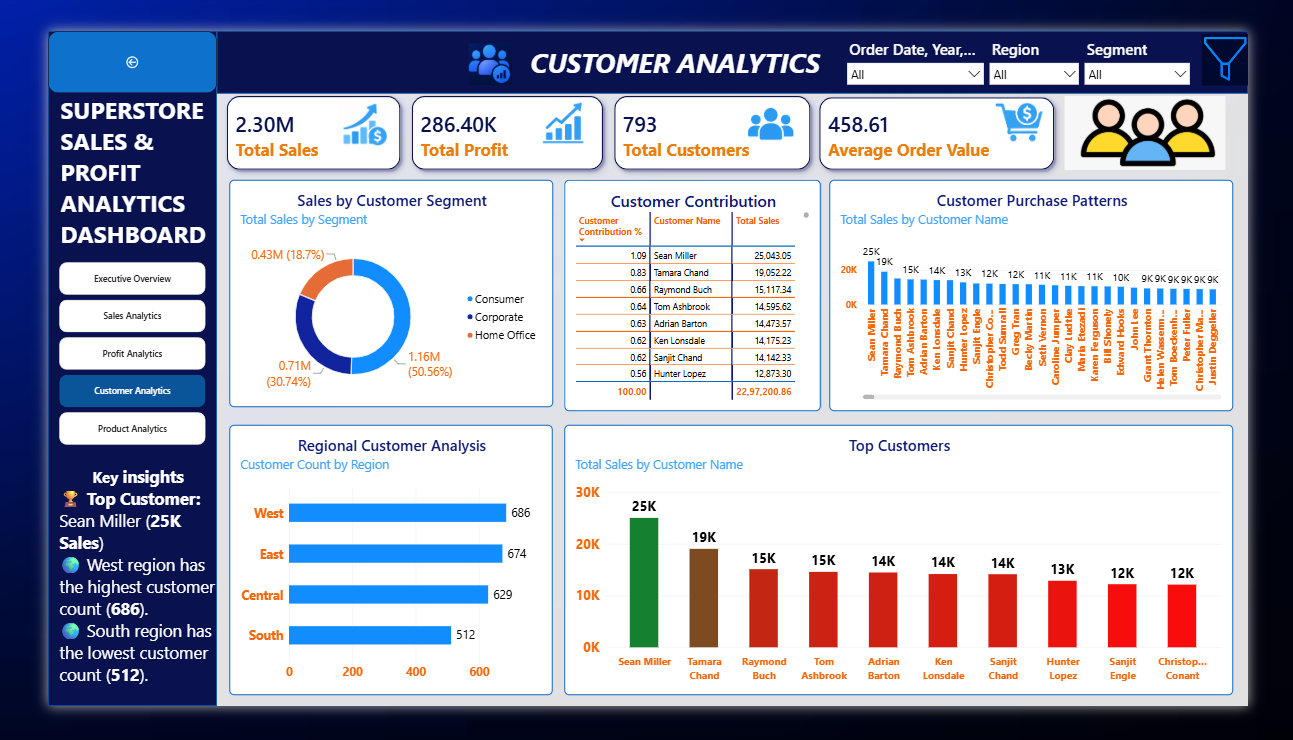

Layout of this report page (visuals, bound fields, positions):
{"tool":"powerbi","page":{"name":"Customer Analytics","canvas":[1920,1080],"ordinal":3},"visuals":[{"type":"shape","box":[0,0,270,1080],"z":0},{"type":"textbox","box":[20,100,250,286],"z":1000},{"type":"pageNavigator","box":[18,370,234,292],"z":2000},{"type":"shape","box":[270,0,1650,100],"z":3000},{"type":"textbox","box":[732.5,20,542.5,80],"z":4000},{"type":"slicer","fields":{"Values":["Data.Order Date.Variation.Date Hierarchy.Year","Data.Order Date.Variation.Date Hierarchy.Year1","Data.Order Date.Variation.Date Hierarchy.Quarter","Data.Order Date.Variation.Date Hierarchy.Month","Data.Order Date.Variation.Date Hierarchy.Day"]},"box":[1274,12,228,84],"z":5000},{"type":"slicer","fields":{"Values":["Data.Region"]},"box":[1502.5,12.5,152.5,87.5],"z":6000},{"type":"slicer","fields":{"Values":["Data.Segment"]},"box":[1654,12,178,84],"z":7000},{"type":"columnChart","title":"Top Customers","fields":{"Category":["Data.Customer Name"],"Y":["Data.Total Sales"]},"box":[825,630,1070,432.5],"z":8000},{"type":"donutChart","title":"Sales by Customer Segment","fields":{"Series":["Data.Segment"],"Y":["Data.Total Sales"]},"box":[290,238,518,364],"z":9000},{"type":"cardVisual","fields":{"Data":["Data.Total Sales"]},"box":[270,88,310,150],"z":10000},{"type":"cardVisual","fields":{"Data":["Data.Total Profit"]},"box":[566,88,338,150],"z":11000},{"type":"cardVisual","fields":{"Data":["Data.Total Customers"]},"box":[890,88,346,150],"z":12000},{"type":"cardVisual","fields":{"Data":["Data.Average Order Value"]},"box":[1218,90,408,148],"z":13000},{"type":"barChart","title":"Regional Customer Analysis","fields":{"Category":["Data.Region"],"Y":["Data.Customer Count"]},"box":[290,630,517.5,432.5],"z":14000},{"type":"clusteredColumnChart","title":"Customer Purchase Patterns","fields":{"Category":["Data.Customer Name"],"Y":["Data.Total Sales"]},"box":[1250,238,646,370],"z":15000},{"type":"tableEx","title":"Customer Contribution","fields":{"Values":["Data.Customer Contribution %","Data.Customer Name","Data.Total Sales"]},"box":[826,238,410,370],"z":16000},{"type":"actionButton","box":[0,0,270,100],"z":17000},{"type":"image","box":[460,116,88,68],"z":18000},{"type":"image","box":[788,112,76,72],"z":19000},{"type":"image","box":[1120,112,74,72],"z":20000},{"type":"image","box":[1502,112,106,66],"z":21000},{"type":"image","box":[658,20,100,66],"z":22000},{"type":"image","box":[1608,104,294,118],"z":23000},{"type":"image","box":[1846,0,74,92],"z":24000},{"type":"textbox","box":[18,694,252,386],"z":25000}]}

Visuals, with their boxes in screenshot pixels (x1, y1, x2, y2), scaled from the page's 1920x1080 canvas onto the 1293x740 screenshot:
shape: x1=0, y1=0, x2=182, y2=739
textbox: x1=13, y1=69, x2=182, y2=264
pageNavigator: x1=12, y1=254, x2=170, y2=454
shape: x1=182, y1=0, x2=1292, y2=69
textbox: x1=493, y1=14, x2=859, y2=69
slicer - Data.Order Date.Variation.Date Hierarchy.Year x Data.Order Date.Variation.Date Hierarchy.Year1: x1=858, y1=8, x2=1012, y2=66
slicer - Data.Region: x1=1012, y1=9, x2=1115, y2=69
slicer - Data.Segment: x1=1114, y1=8, x2=1234, y2=66
"Top Customers" columnChart: x1=556, y1=432, x2=1276, y2=728
"Sales by Customer Segment" donutChart: x1=195, y1=163, x2=544, y2=412
cardVisual - Data.Total Sales: x1=182, y1=60, x2=391, y2=163
cardVisual - Data.Total Profit: x1=381, y1=60, x2=609, y2=163
cardVisual - Data.Total Customers: x1=599, y1=60, x2=832, y2=163
cardVisual - Data.Average Order Value: x1=820, y1=62, x2=1095, y2=163
"Regional Customer Analysis" barChart: x1=195, y1=432, x2=544, y2=728
"Customer Purchase Patterns" clusteredColumnChart: x1=842, y1=163, x2=1277, y2=417
"Customer Contribution" tableEx: x1=556, y1=163, x2=832, y2=417
actionButton: x1=0, y1=0, x2=182, y2=69
image: x1=310, y1=79, x2=369, y2=126
image: x1=531, y1=77, x2=582, y2=126
image: x1=754, y1=77, x2=804, y2=126
image: x1=1012, y1=77, x2=1083, y2=122
image: x1=443, y1=14, x2=510, y2=59
image: x1=1083, y1=71, x2=1281, y2=152
image: x1=1243, y1=0, x2=1292, y2=63
textbox: x1=12, y1=476, x2=182, y2=739
